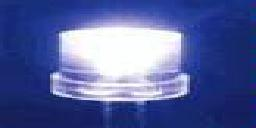LED: (49, 25, 194, 125)
